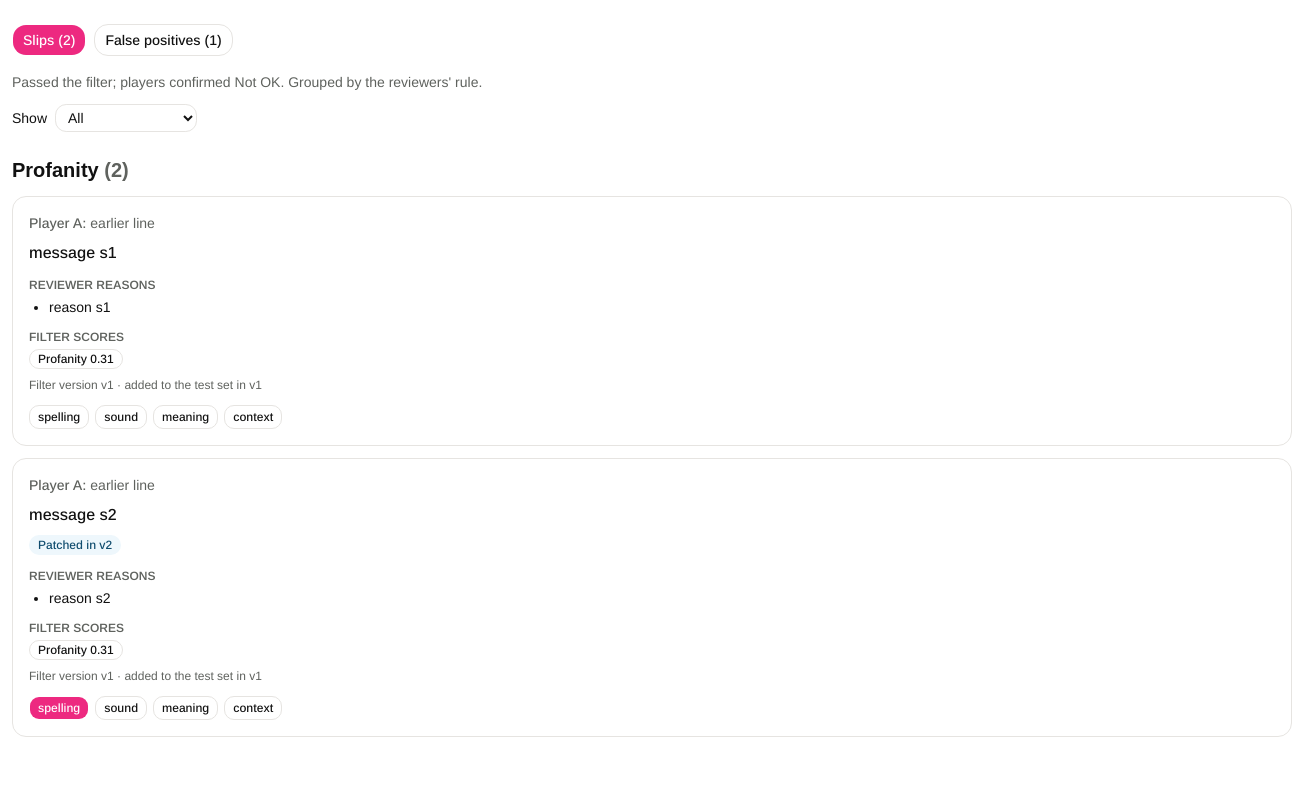
it: has a false positives tab
Step 1. Click the tab "False positives (1)" → (164, 40), box [94,24,233,56]
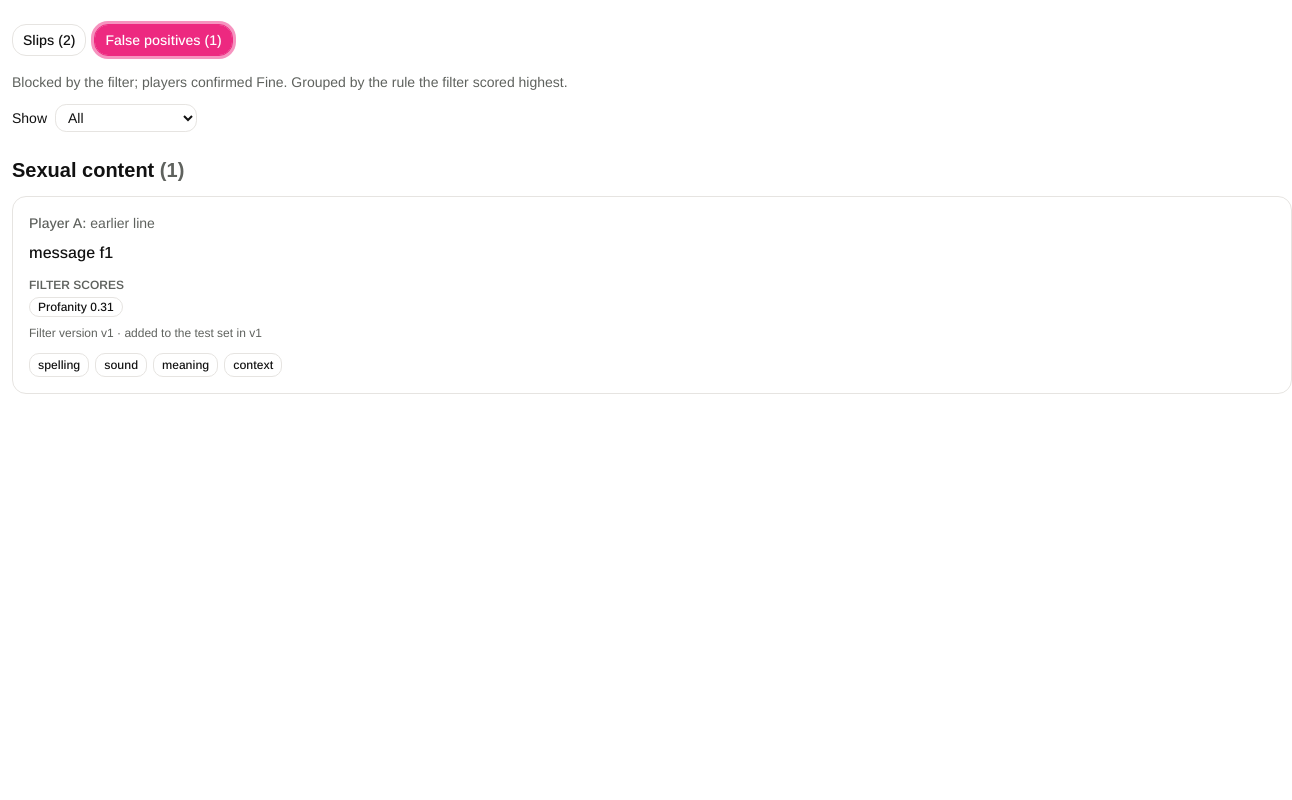
Expected: the heading "Sexual content (1)" is shown, [12,159,184,181]
